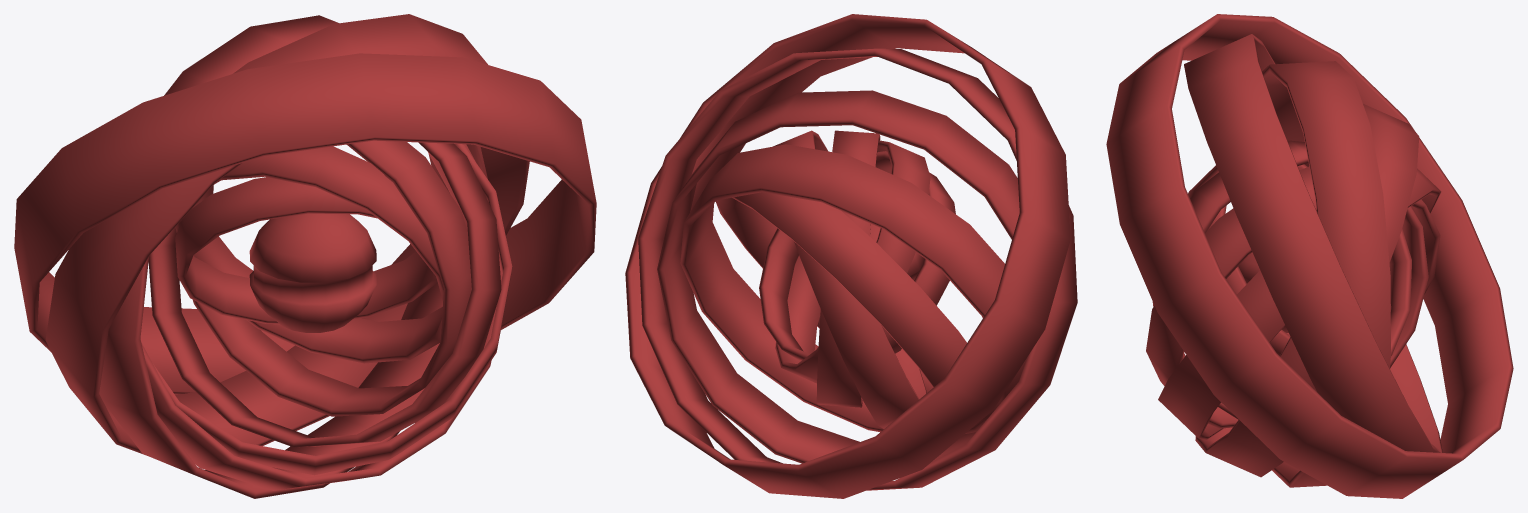
The picture shows the model from 3 angles, left to right: view 1: azimuth 30°, elevation 25°; view 2: azimuth 150°, elevation 25°; view 3: azimuth 270°, elevation 25°; orthographic projection. The views are drawn at different scales.
Parts seen in each view (by area): view 1: Curves_06; view 2: Curves_06; view 3: Curves_06.
Part boxes in pixels (<box>): Curves_06: <box>14,14,596,498</box>; Curves_06: <box>625,14,1077,498</box>; Curves_06: <box>1106,14,1513,498</box>.
Bounding box in the file's own units: 275 × 248 × 217.
1 material, 1 textured.
